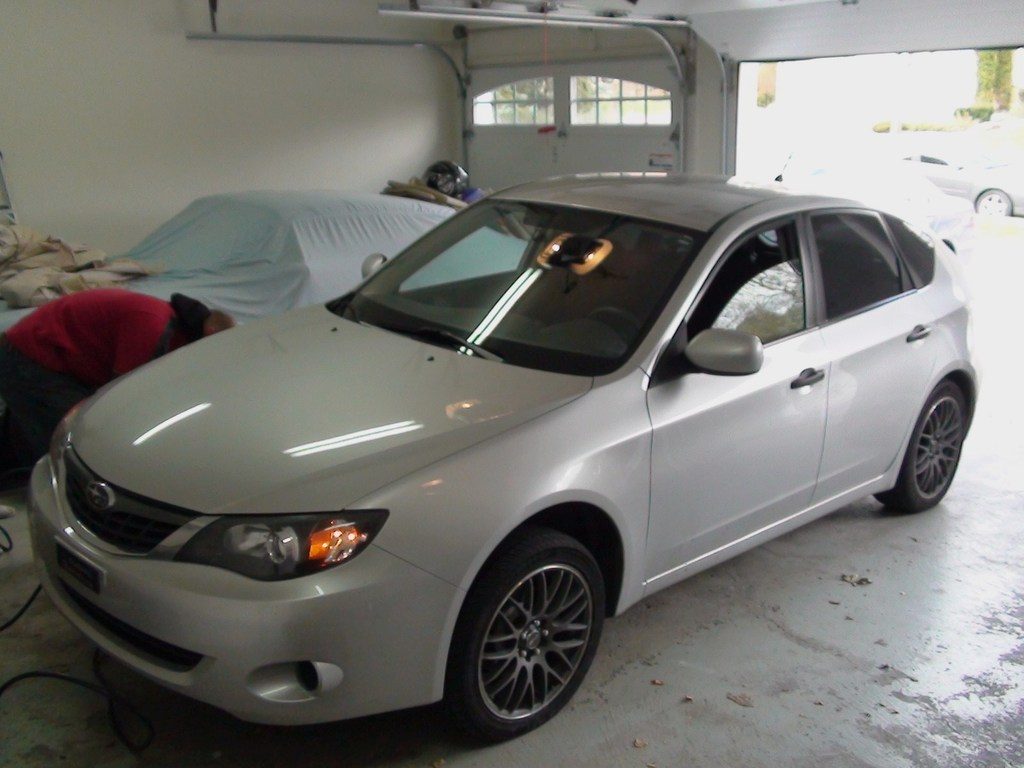Car: (28, 177, 973, 727)
